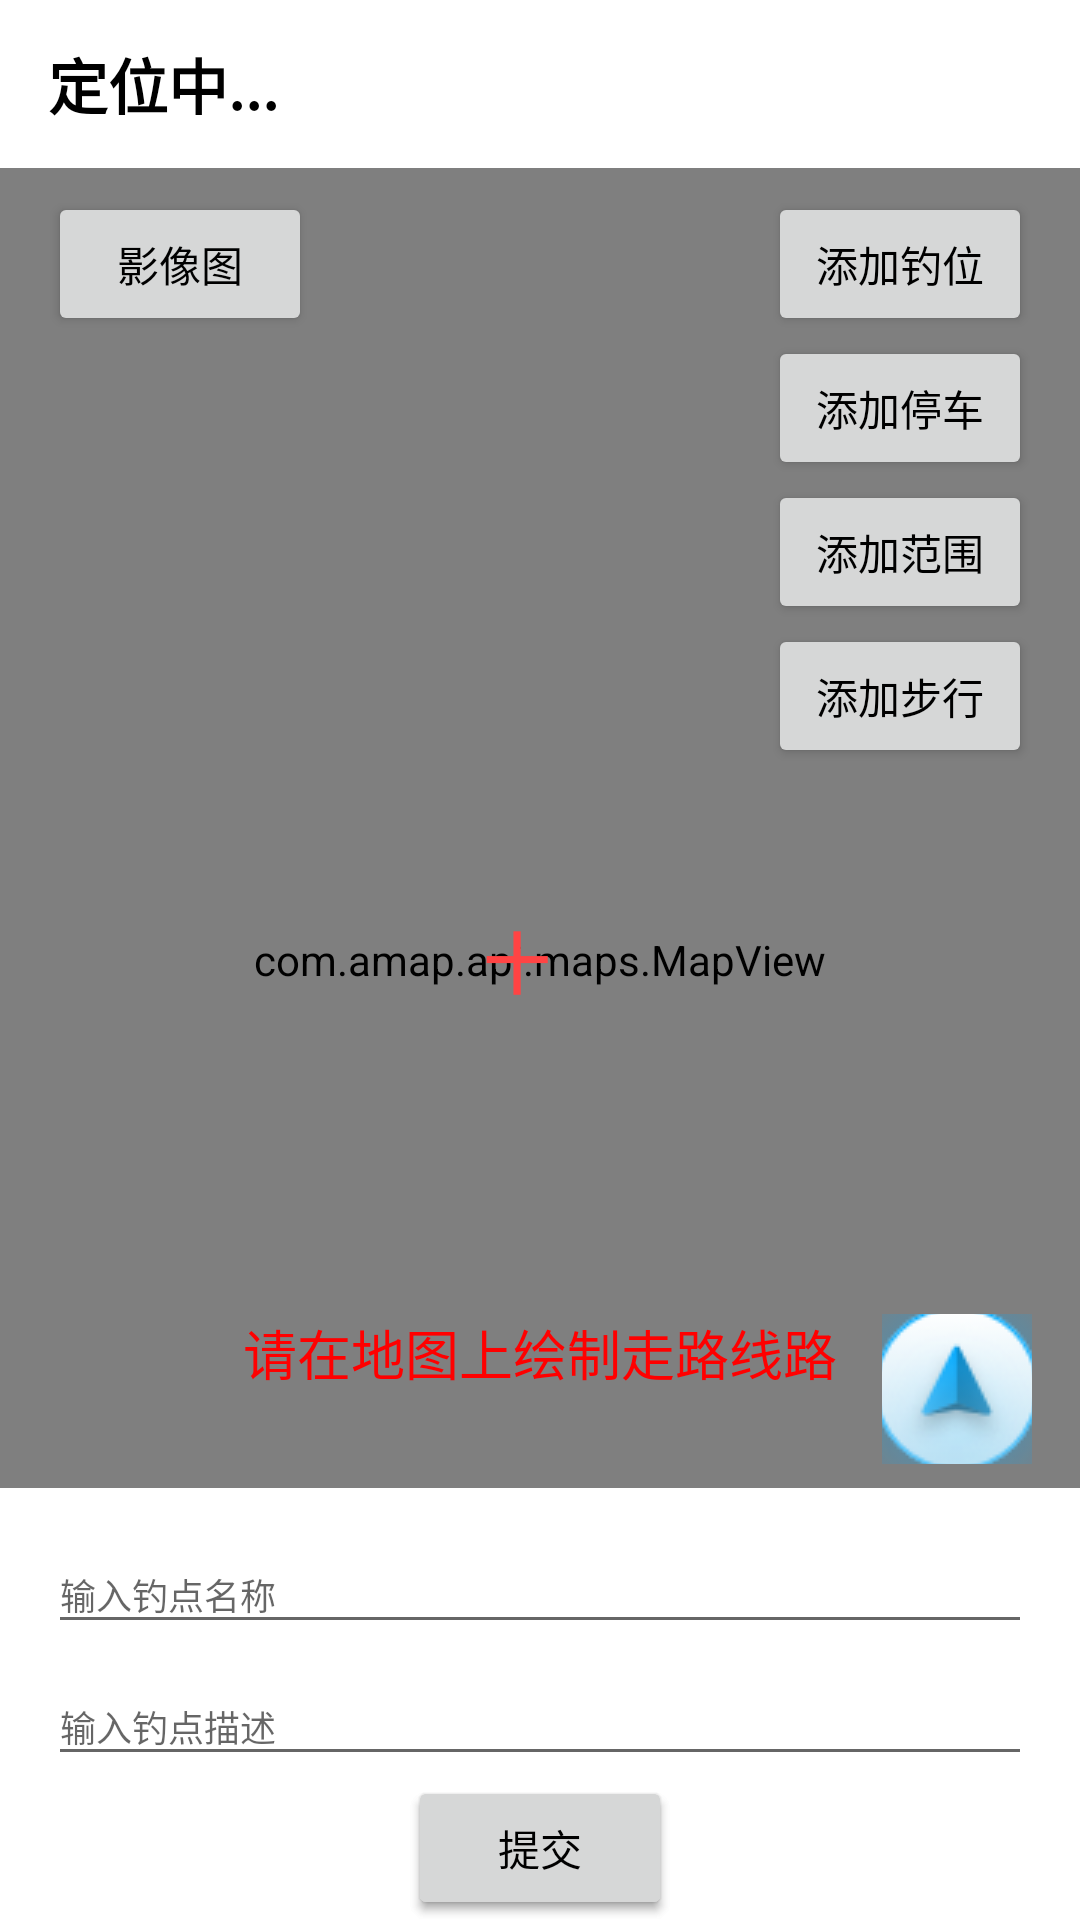

Named icons in this screenshot (1080px×1920px) and their centers, (x,y):
定位: (957,1389)
